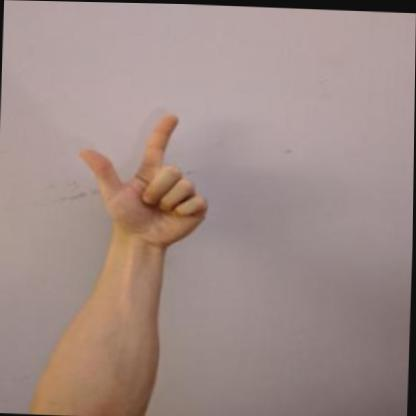L: (69, 105, 218, 250)
